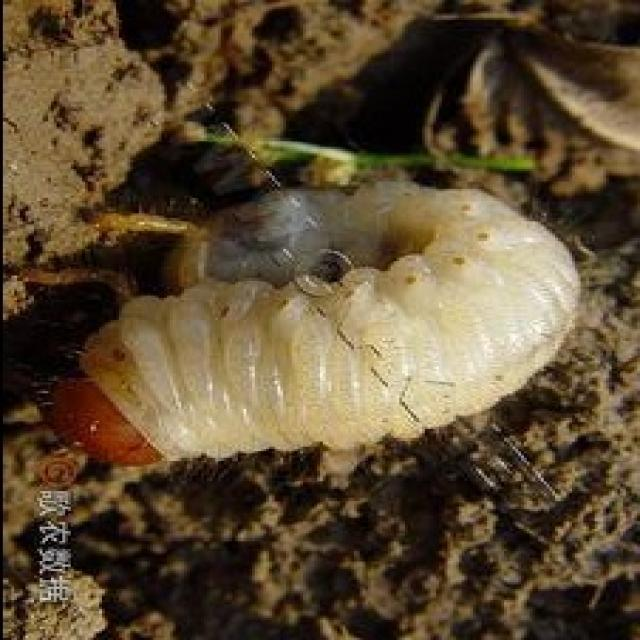army worm: (45, 179, 586, 481)
